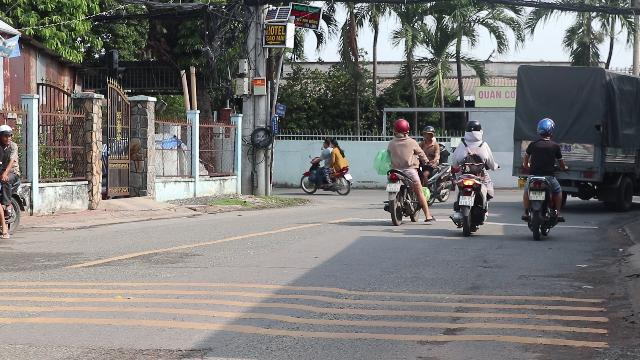helmet: (536, 118, 556, 138), (391, 118, 409, 138), (464, 120, 482, 138)
licenseplate: (458, 196, 474, 206), (530, 192, 544, 200), (386, 184, 400, 192)
motorcyclist: (518, 118, 566, 238), (381, 118, 431, 226), (448, 118, 494, 233)
